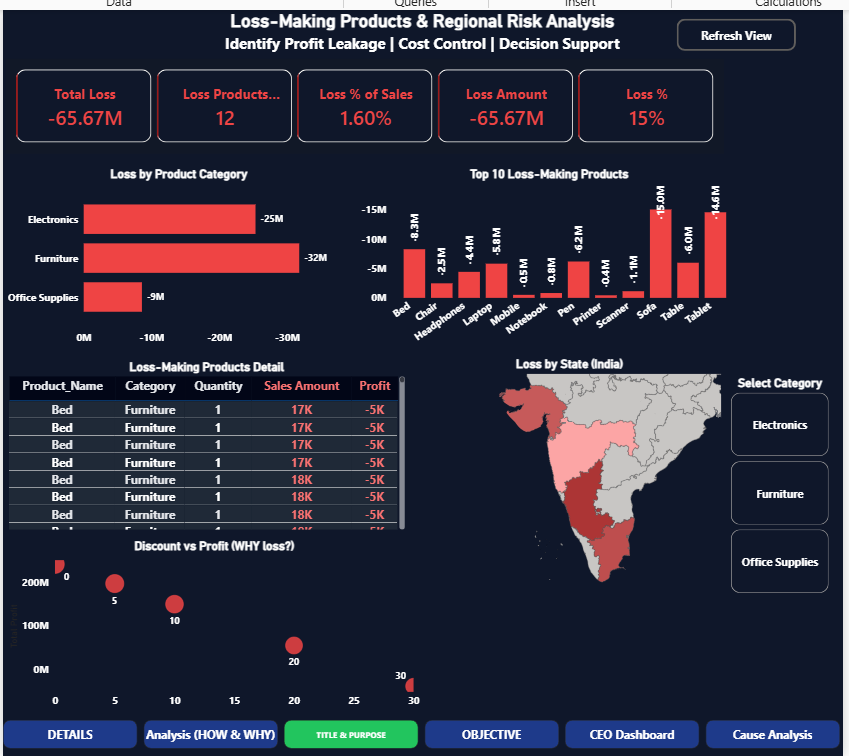

The page's visual inventory and layout, read from the dashboard file:
{"tool":"powerbi","page":{"name":"TITLE & PURPOSE","canvas":[1350,1200],"ordinal":2},"visuals":[{"type":"textbox","title":"Loss-Making Products & Regional Risk Analysis","box":[0,0,1349.2,75.6],"z":0},{"type":"cardVisual","fields":{"Data":["Customer_Table.Total Loss","Customer_Table.Loss Products Count","Customer_Table.Loss % of Sales"]},"box":[3.7,79.3,835,156.7],"z":1000},{"type":"clusteredBarChart","title":"Loss by Product Category","fields":{"Category":["Product_Table.Category"],"Y":["Customer_Table.Total Loss"]},"box":[1.8,254.4,562.2,294.9],"z":2000},{"type":"tableEx","title":"Loss-Making Products Detail","fields":{"Values":["Product_Table.Product_Name","Product_Table.Category","Sales_Fact_Table.Quantity","Sales_Fact_Table.Sales_Amount","Sales_Fact_Table.Profit"]},"box":[4.7,563,647.5,277.5],"z":3000},{"type":"advancedSlicerVisual","title":"Select Category","fields":{"Values":["Product_Table.Category"]},"box":[1166.7,589.8,167.7,353.9],"z":5000},{"type":"actionButton","box":[1083.8,14.7,191.7,51.6],"z":6000},{"type":"pageNavigator","box":[0,1142.1,1349.2,46.2],"z":7000},{"type":"columnChart","title":"Top 10 Loss-Making Products","fields":{"Category":["Product_Table.Product_Name"],"Y":["Customer_Table.Total Loss"]},"box":[571.4,254.4,615.6,294.9],"z":8000},{"type":"shapeMap","title":"Loss by State (India)","fields":{"Category":["Customer_Table.State"],"Value":["Customer_Table.Total Loss"]},"box":[661.5,559,498.7,384.1],"z":9000},{"type":"scatterChart","title":"Discount vs Profit (WHY loss?)","fields":{"X":["Sales_Fact_Table.Discount_%"],"Y":["Sales_Fact_Table.Total Profit"],"Size":["Sales_Fact_Table.Total Sales"],"Series":["Sales_Fact_Table.Discount Band"]},"box":[4,850.5,671.6,281.5],"z":10000}]}

Visuals, with their boxes on the page's 1350x1200 design canvas (x1, y1, x2, y2). These are canvas units, not pixel positions in the 849x756 screenshot, which may show the page scaled, cropped or inside an application window:
"Loss-Making Products & Regional Risk Analysis" textbox: rect(0, 0, 1349, 76)
cardVisual - Customer_Table.Total Loss x Customer_Table.Loss Products Count: rect(4, 79, 839, 236)
"Loss by Product Category" clusteredBarChart: rect(2, 254, 564, 549)
"Loss-Making Products Detail" tableEx: rect(5, 563, 652, 840)
"Select Category" advancedSlicerVisual: rect(1167, 590, 1334, 944)
actionButton: rect(1084, 15, 1276, 66)
pageNavigator: rect(0, 1142, 1349, 1188)
"Top 10 Loss-Making Products" columnChart: rect(571, 254, 1187, 549)
"Loss by State (India)" shapeMap: rect(662, 559, 1160, 943)
"Discount vs Profit (WHY loss?)" scatterChart: rect(4, 850, 676, 1132)
